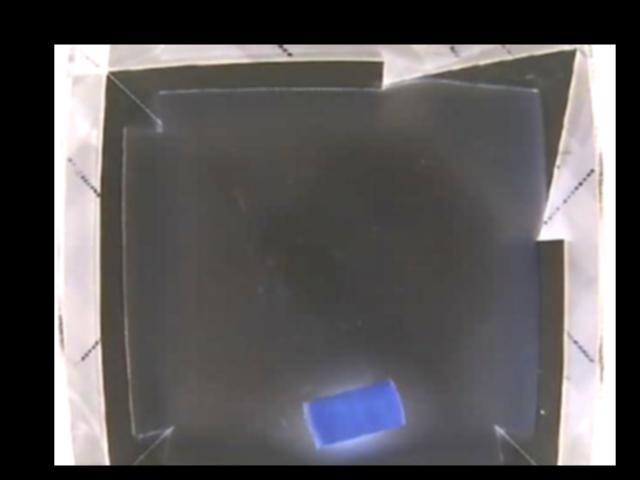Potato: (302, 376, 407, 447)
